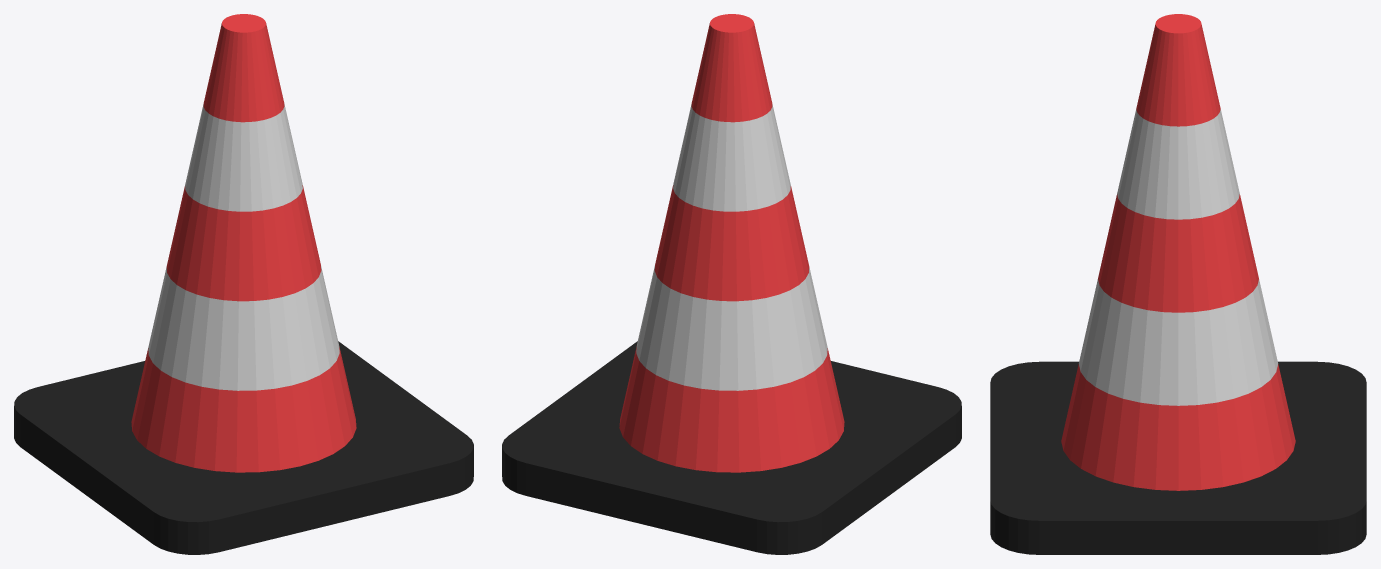
3 views of the same model, side by side, from view 1: azimuth 30°, elevation 25°; view 2: azimuth 150°, elevation 25°; view 3: azimuth 270°, elevation 25° (orthographic). The views are drawn at different scales.
Visible parts, largest first — view 1: Plane; view 2: Plane; view 3: Plane.
Part boxes in pixels (x1,y1,x2,y2): Plane: (14,14,473,554); Plane: (502,14,961,554); Plane: (990,14,1366,554).
Bounding box in the file's own units: 106 × 141 × 106.
